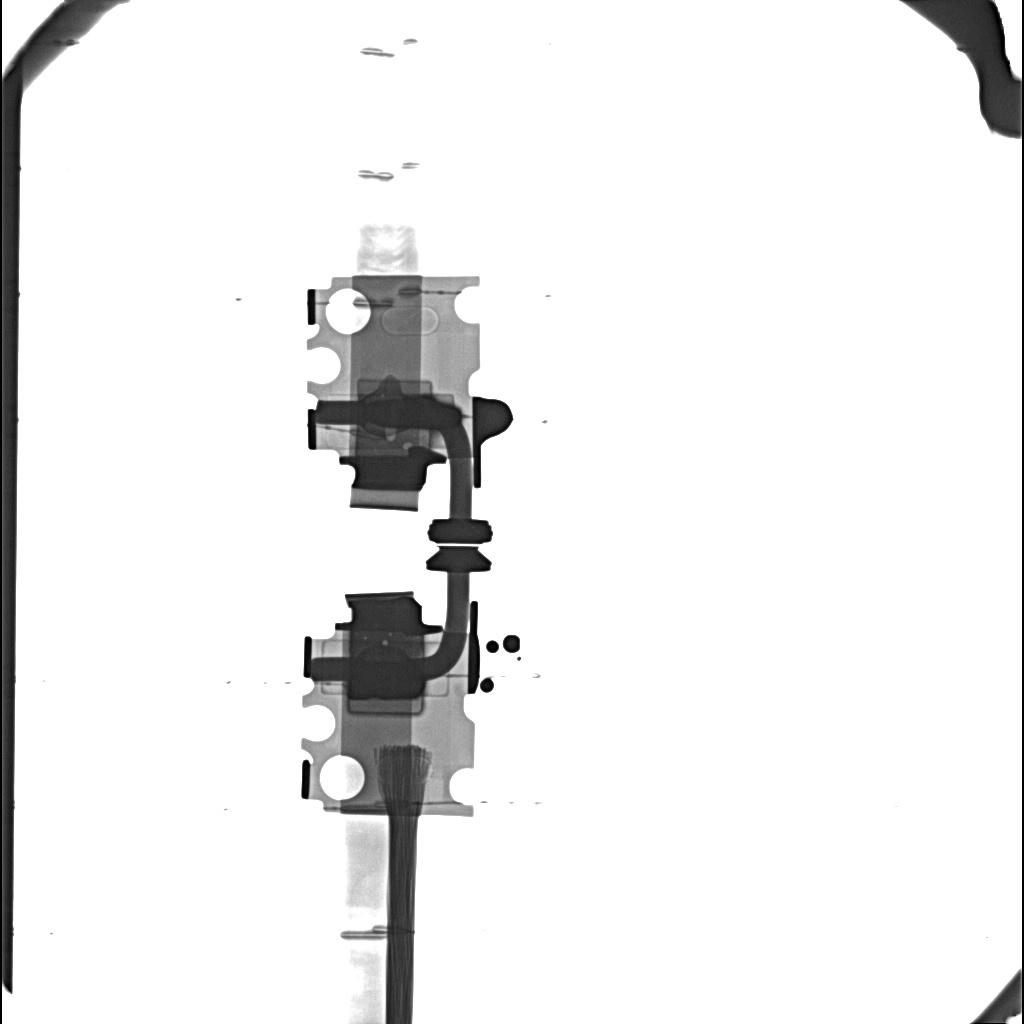气孔: (348, 696, 425, 716), (357, 379, 432, 398)
气泡: (386, 433, 395, 441), (402, 442, 412, 449), (383, 640, 388, 646)
水纹: (362, 396, 461, 429), (348, 659, 424, 699)
